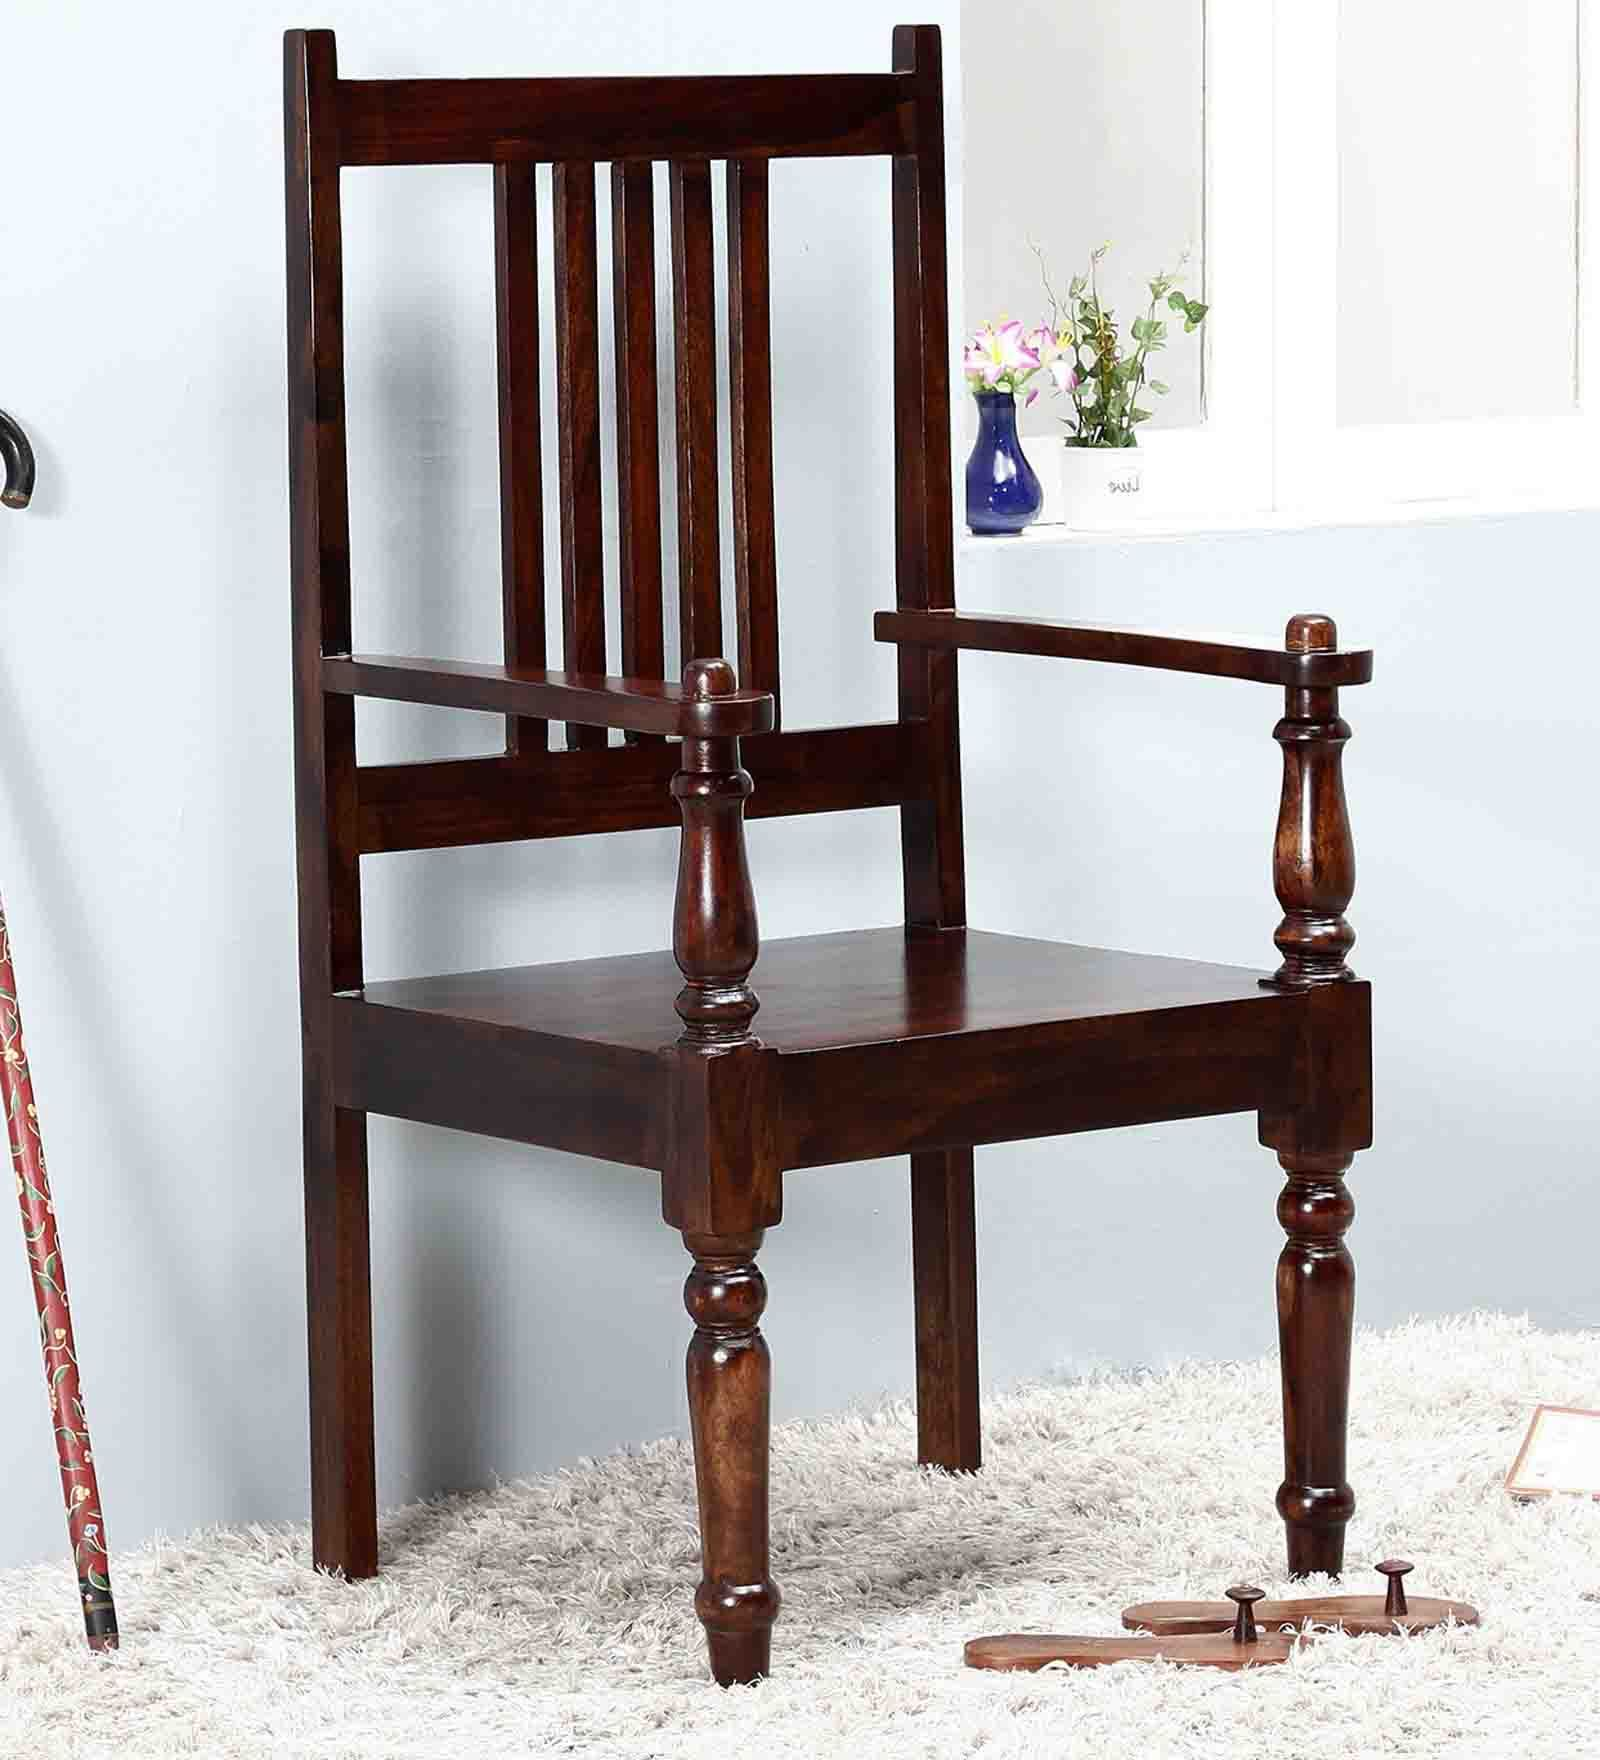Raylestone Arm Chair in Provincial Teak Finish by Amberville: (207, 12, 1379, 1564)
